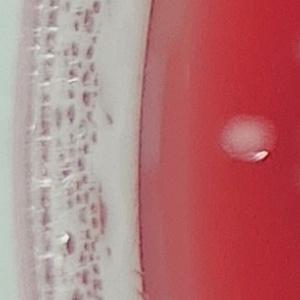colony: (217, 109, 283, 170)
